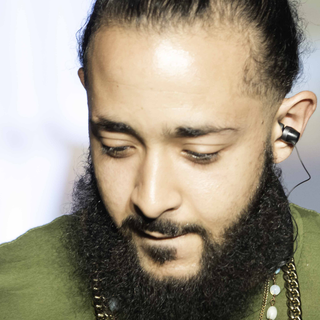eye: (176, 143, 224, 167), (100, 138, 141, 162)
